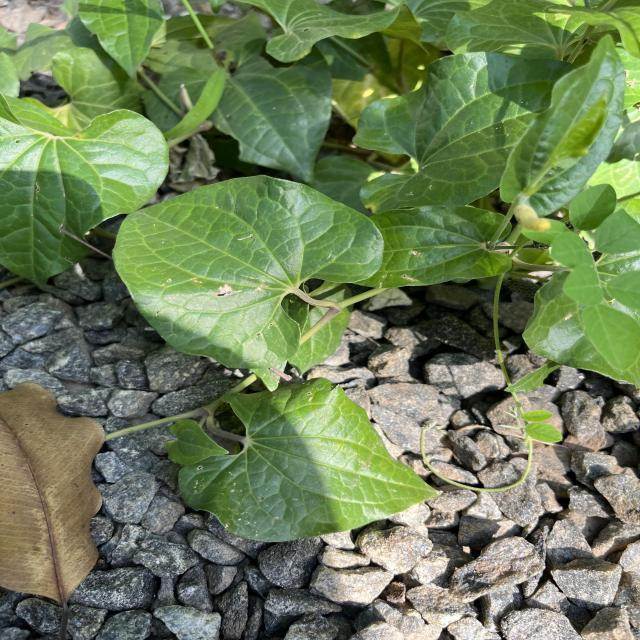Piper longum: (109, 172, 390, 372), (170, 374, 444, 546)
